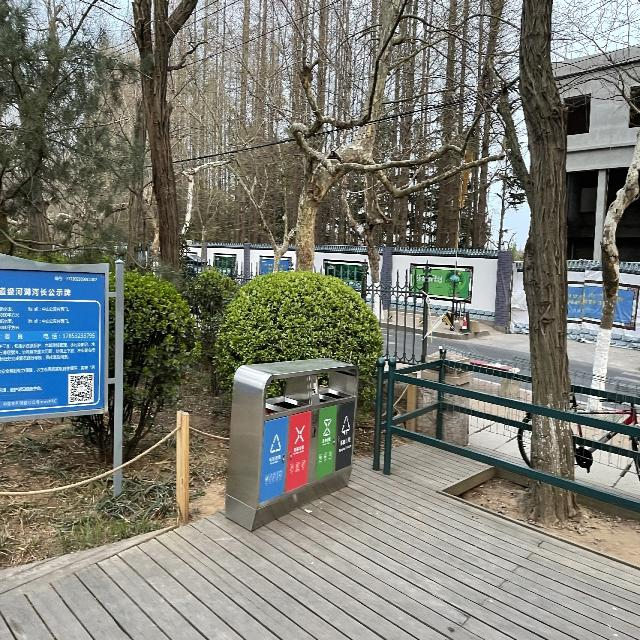garbage_bin: (225, 355, 359, 533)
